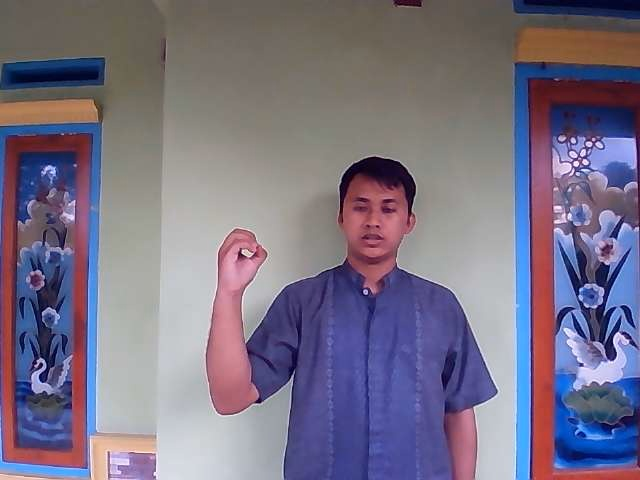O: (214, 226, 270, 295)
